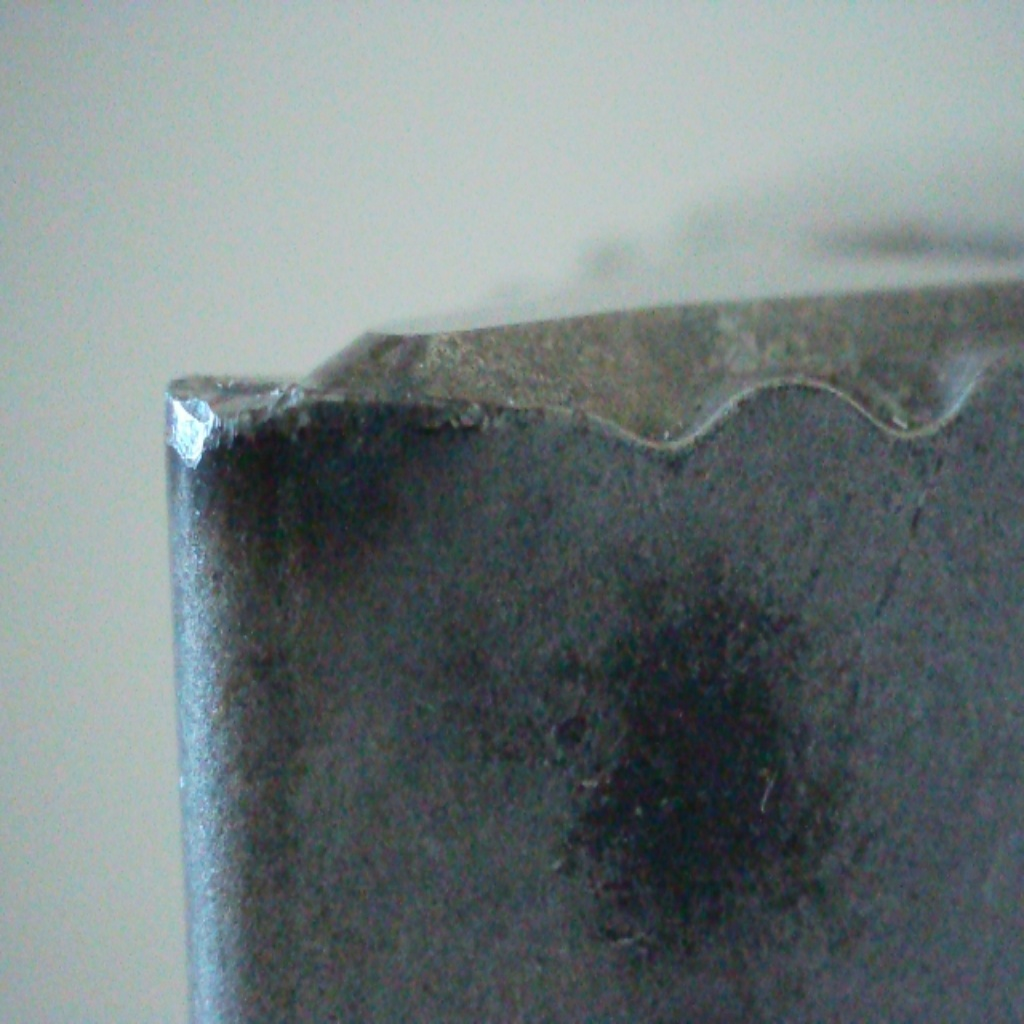flank_wear: (145, 372, 329, 470)
